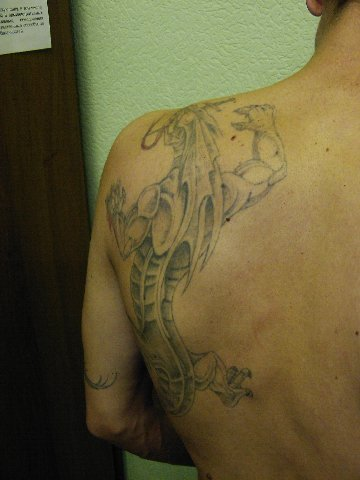tatu6_drakon: (88, 85, 300, 432)
